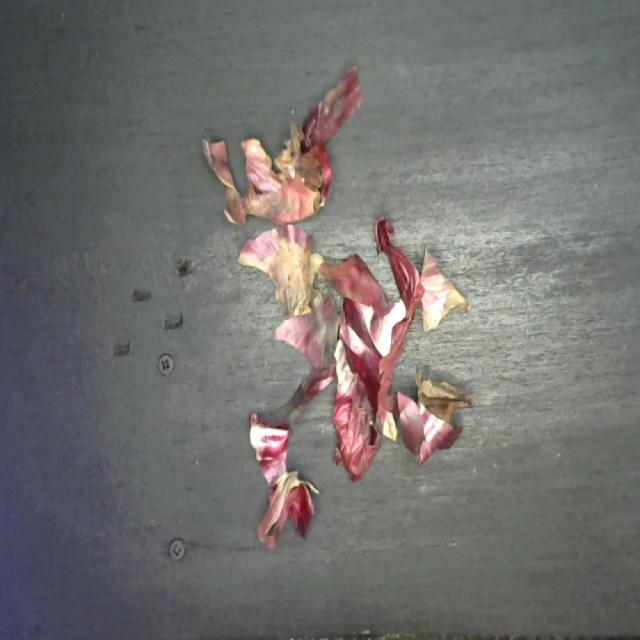biodegradable: (194, 57, 477, 554)
